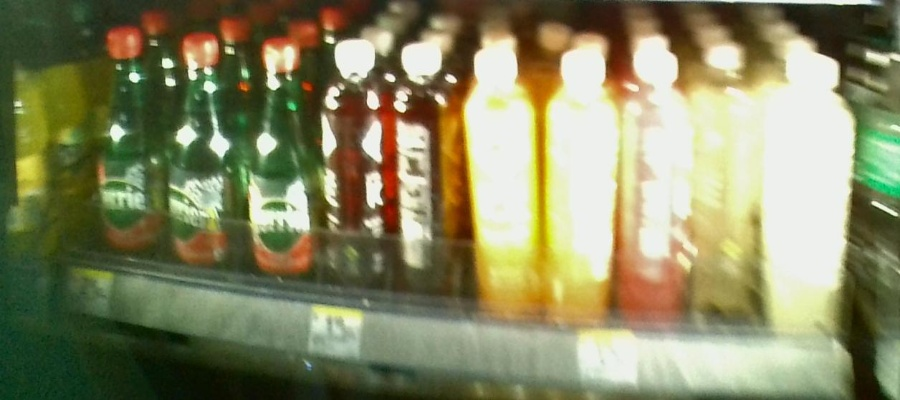bottle: (466, 32, 545, 317), (770, 54, 852, 325), (550, 35, 619, 330), (695, 40, 763, 328), (623, 42, 691, 324), (246, 35, 319, 290), (395, 39, 461, 300), (325, 35, 391, 291), (92, 25, 163, 261), (170, 33, 233, 269)
